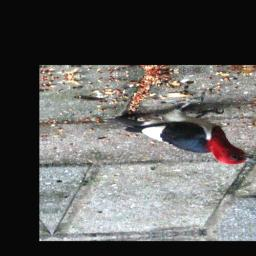Woodpecker: (103, 90, 256, 175)
